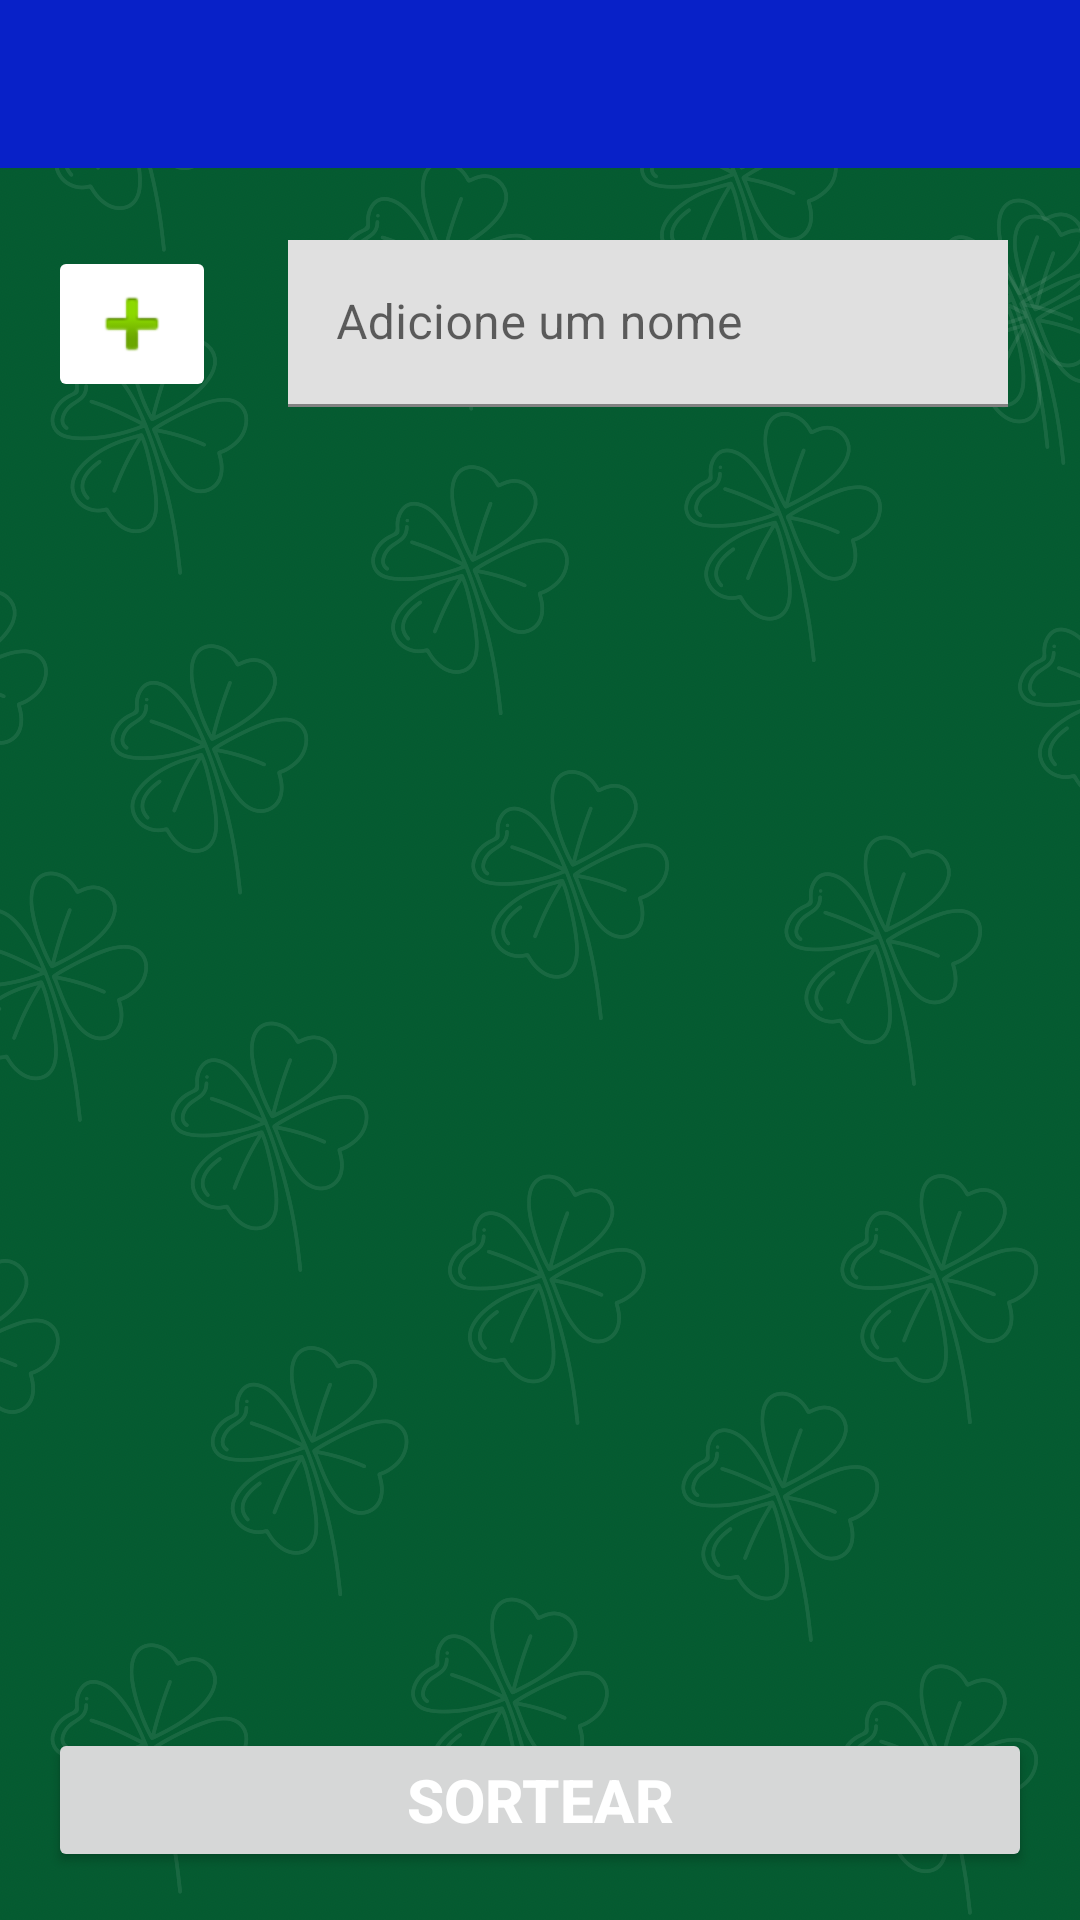

Where to tap for icons on this 1080px x 1920px app screen, as (x,y):
add: (132,324)
